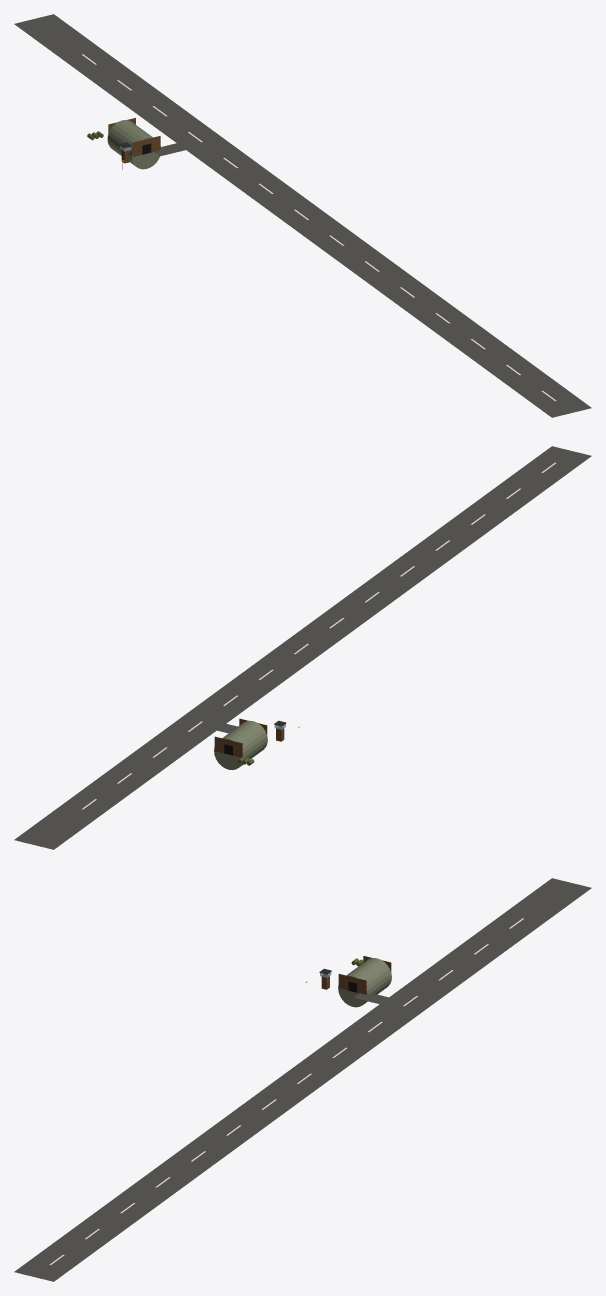
Rendered from aerodromo.glb.
The picture shows the model from 3 angles, top to bottom: view 1: azimuth 30°, elevation 25°; view 2: azimuth 150°, elevation 25°; view 3: azimuth 330°, elevation 25°; orthographic projection.
Parts seen in each view (by area): view 1: Estrutura.003; view 2: Estrutura.003; view 3: Estrutura.003.
Boxes of the visible parts, <box> form: Estrutura.003: <box>14,14,591,417</box>; Estrutura.003: <box>14,446,591,849</box>; Estrutura.003: <box>14,878,591,1281</box>.
Size of the model in its own units: 81.33 by 23 by 700.
